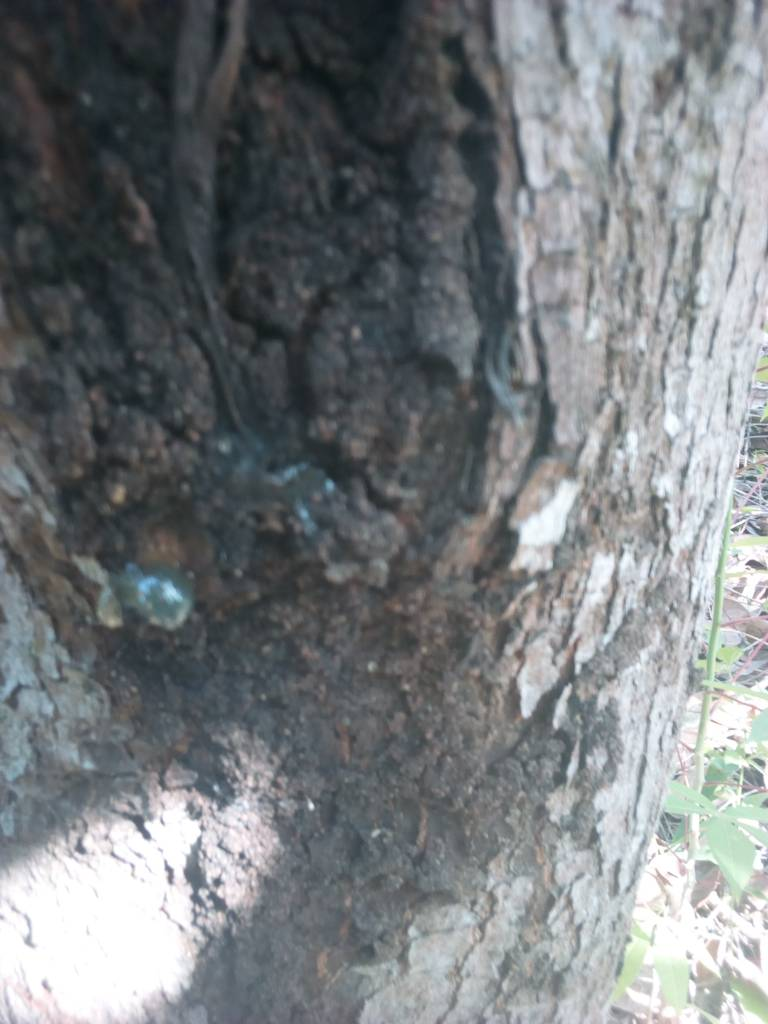Termites: (221, 249, 582, 903)
